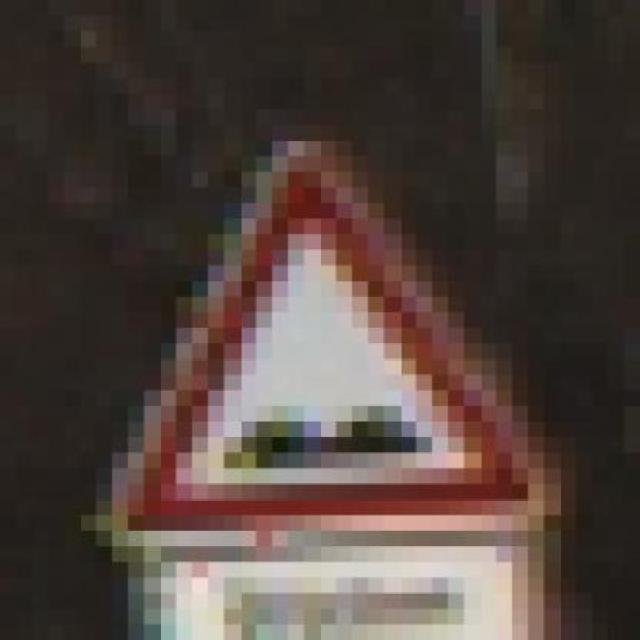Uneven Road: (80, 125, 560, 546)
